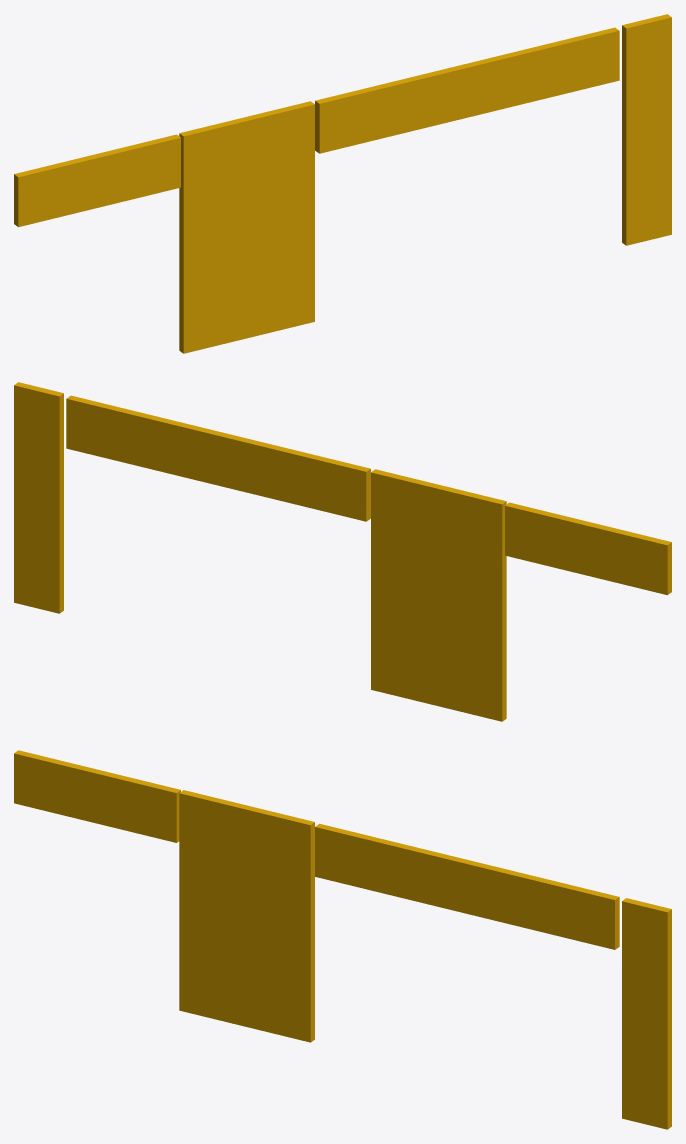
Rendered from BH03_Wall_01_Break_B1_Collider.fbx.
The picture shows the model from 3 angles, top to bottom: view 1: azimuth 30°, elevation 25°; view 2: azimuth 150°, elevation 25°; view 3: azimuth 330°, elevation 25°; orthographic projection.
Visible parts, largest first — view 1: BH03_Wall_01_Break_B1_Collider; view 2: BH03_Wall_01_Break_B1_Collider; view 3: BH03_Wall_01_Break_B1_Collider.
Part boxes in pixels (<box>): BH03_Wall_01_Break_B1_Collider: <box>14,14,671,353</box>; BH03_Wall_01_Break_B1_Collider: <box>14,382,671,721</box>; BH03_Wall_01_Break_B1_Collider: <box>14,750,671,1129</box>.
Size of the model in its own units: 923 by 293 by 10.81.
